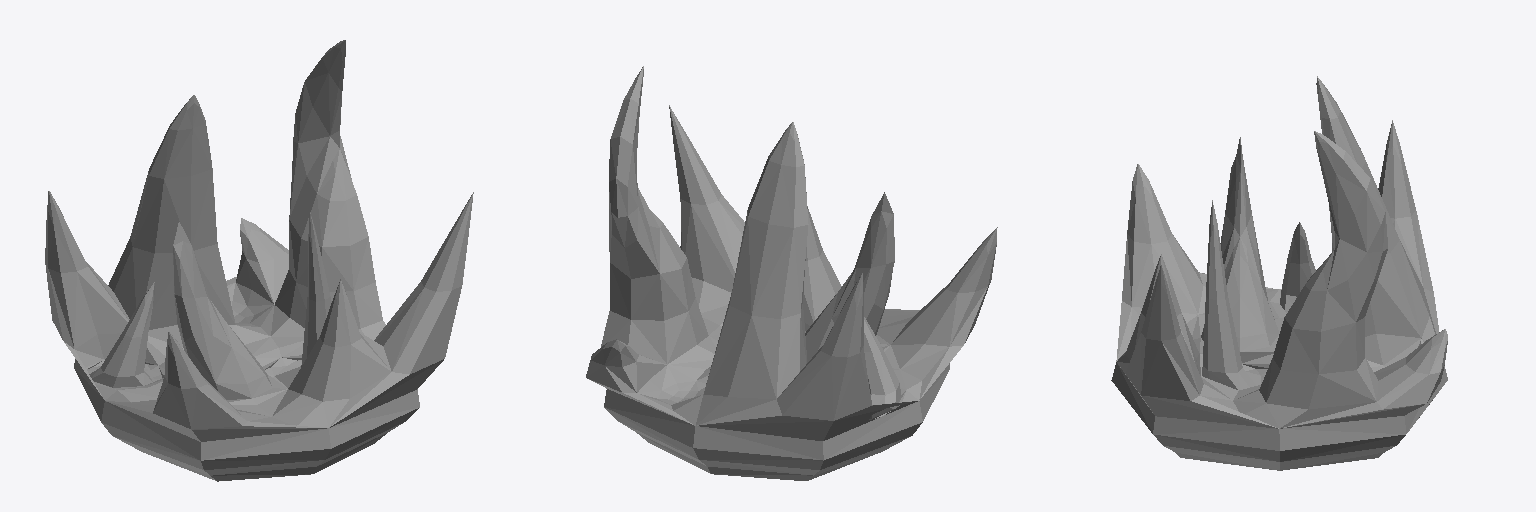
File: spikes.obj
3 renders of one model, left to right at view 1: azimuth 30°, elevation 25°; view 2: azimuth 150°, elevation 25°; view 3: azimuth 270°, elevation 25°, orthographic.
Parts seen in each view (by area): view 1: Mesh_Cube; view 2: Mesh_Cube; view 3: Mesh_Cube.
Part boxes in pixels (x1,y1,x2,y2): Mesh_Cube: (45, 40, 473, 481); Mesh_Cube: (586, 66, 997, 480); Mesh_Cube: (1111, 76, 1447, 470).
Bounding box in the file's own units: 1.81 × 1.93 × 1.66.